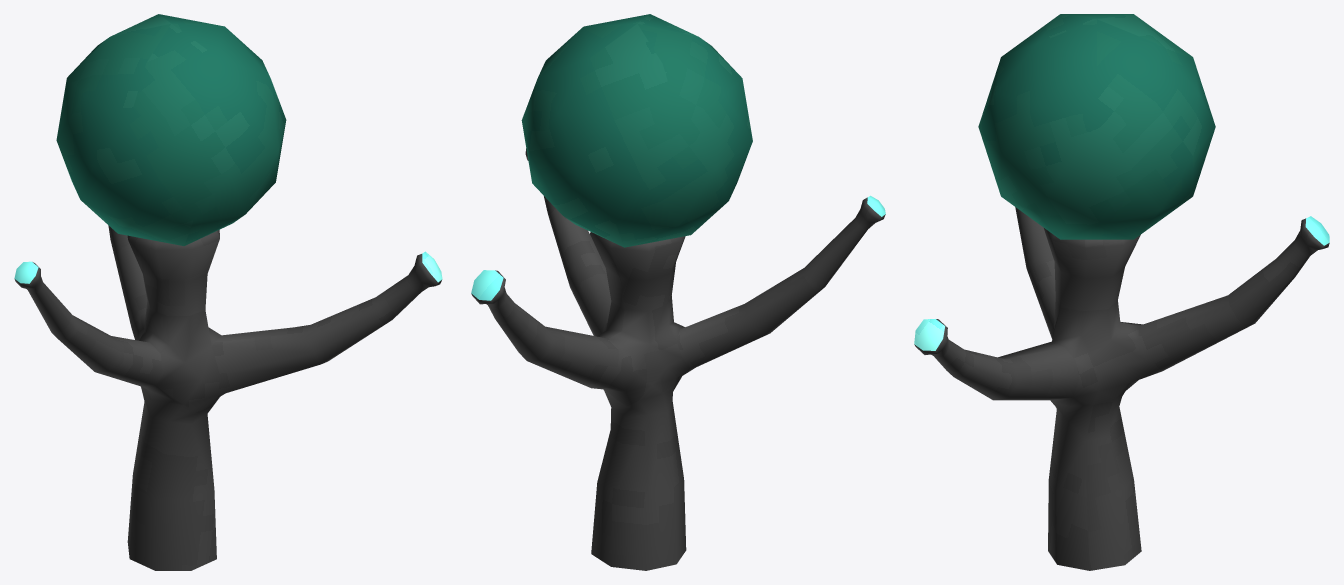
File: LargeGlowingBerry1.fbx
The picture shows the model from 3 angles, left to right: view 1: azimuth 30°, elevation 25°; view 2: azimuth 150°, elevation 25°; view 3: azimuth 270°, elevation 25°; orthographic projection.
Parts seen in each view (by area): view 1: LargeGlowingBerry1; view 2: LargeGlowingBerry1; view 3: LargeGlowingBerry1.
Boxes of the visible parts, x1,y1,x2,y2 form: LargeGlowingBerry1: [14, 14, 442, 570]; LargeGlowingBerry1: [471, 14, 885, 570]; LargeGlowingBerry1: [914, 14, 1329, 570].
Bounding box in the file's own units: 69.24 × 89.67 × 63.28.
